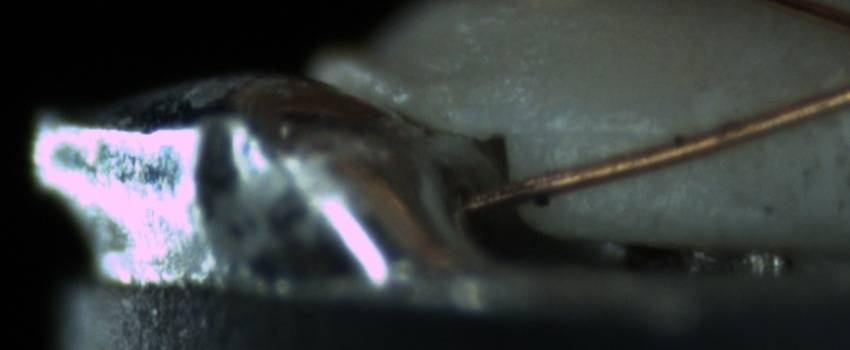DL: (545, 102, 678, 159)
